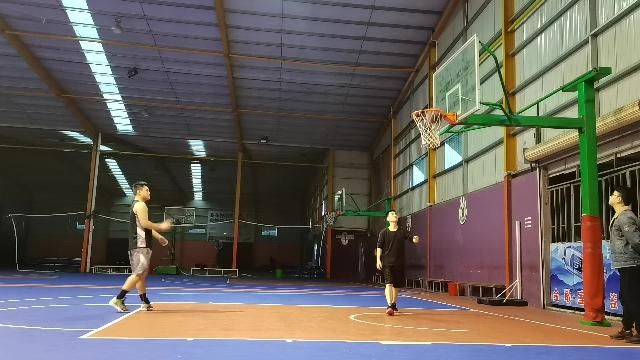basket: (411, 109, 445, 148), (324, 209, 336, 224)
goal: (424, 106, 444, 124)
